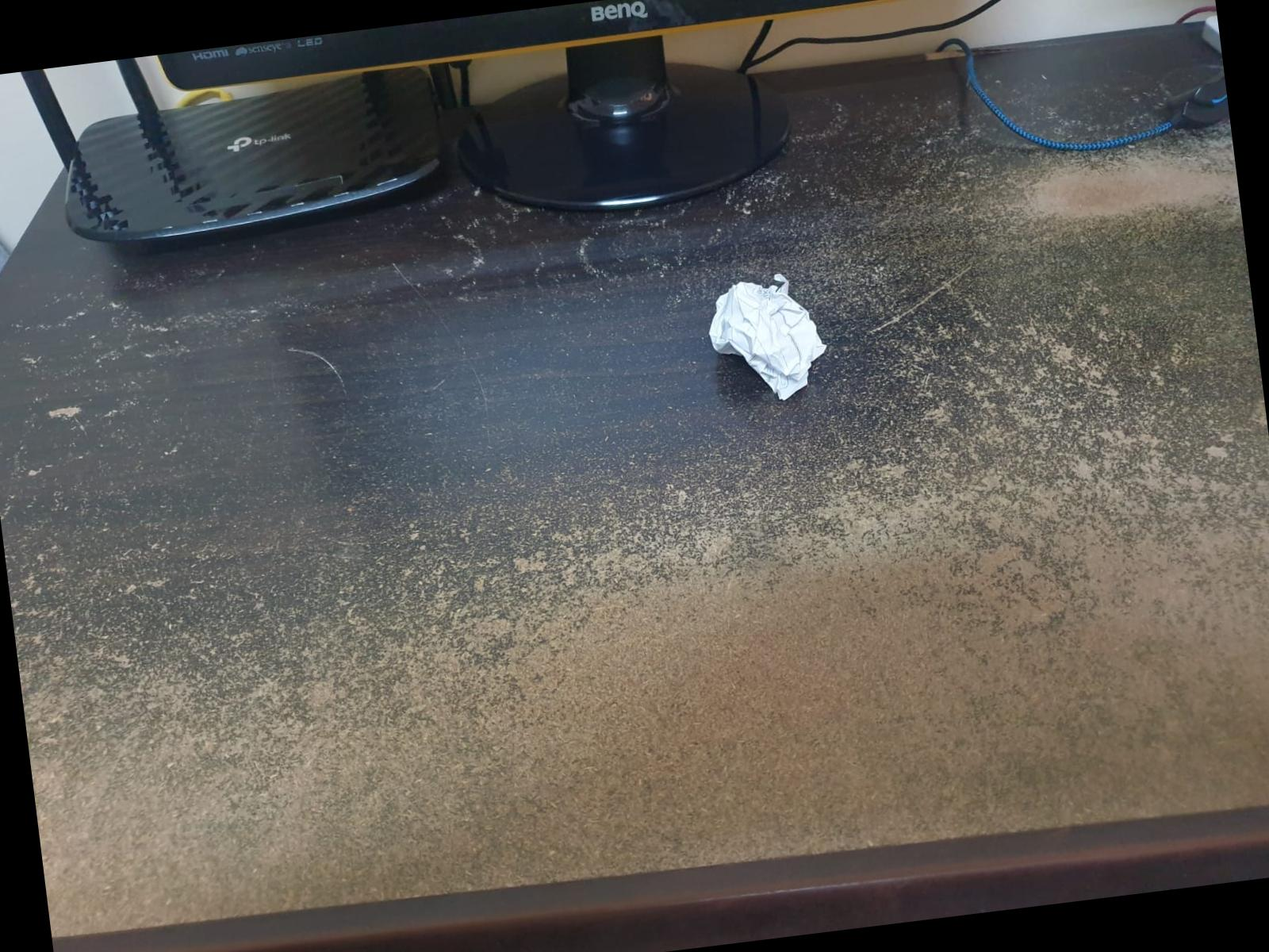Kertas: (711, 262, 845, 425)
